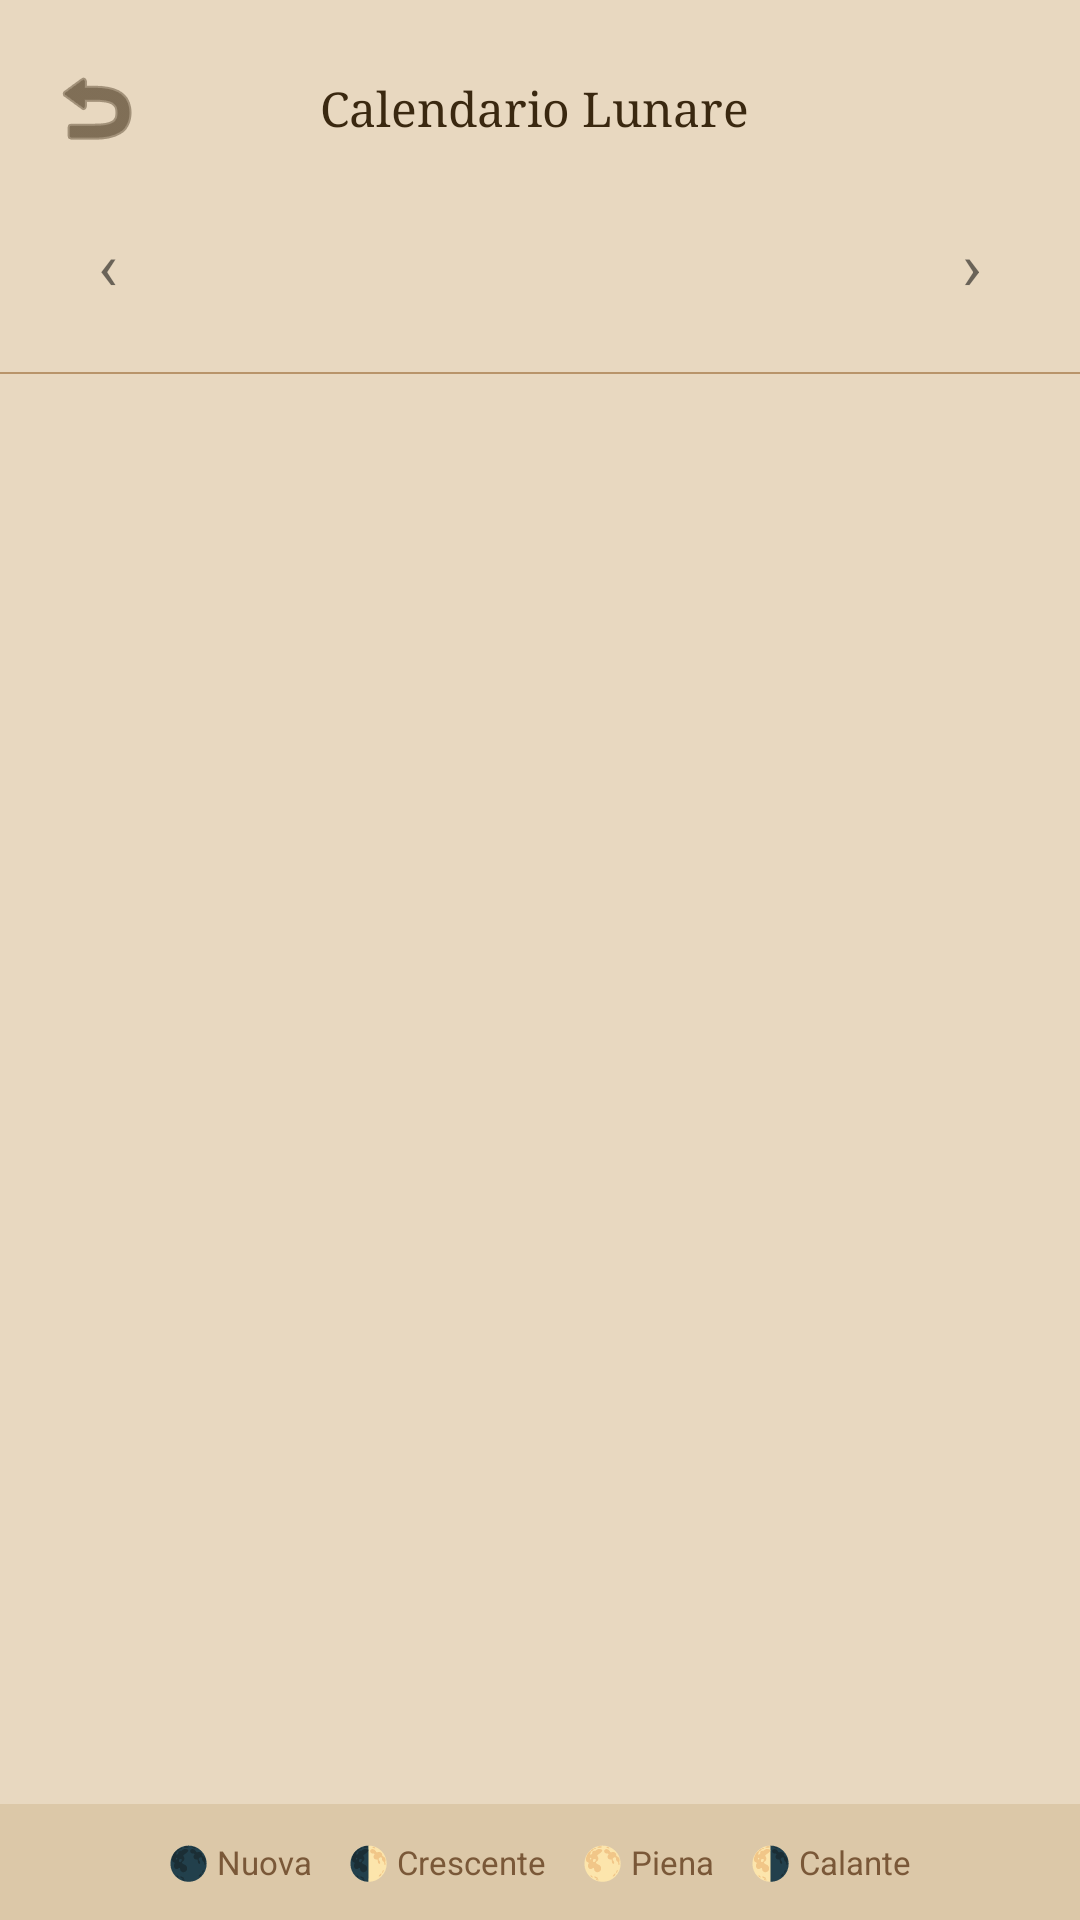

Icon bounding boxes for this 1080*1920 phone screenshot, format bbox=(x1, y1, x2, y2):
revert: bbox=(63, 77, 132, 140)
